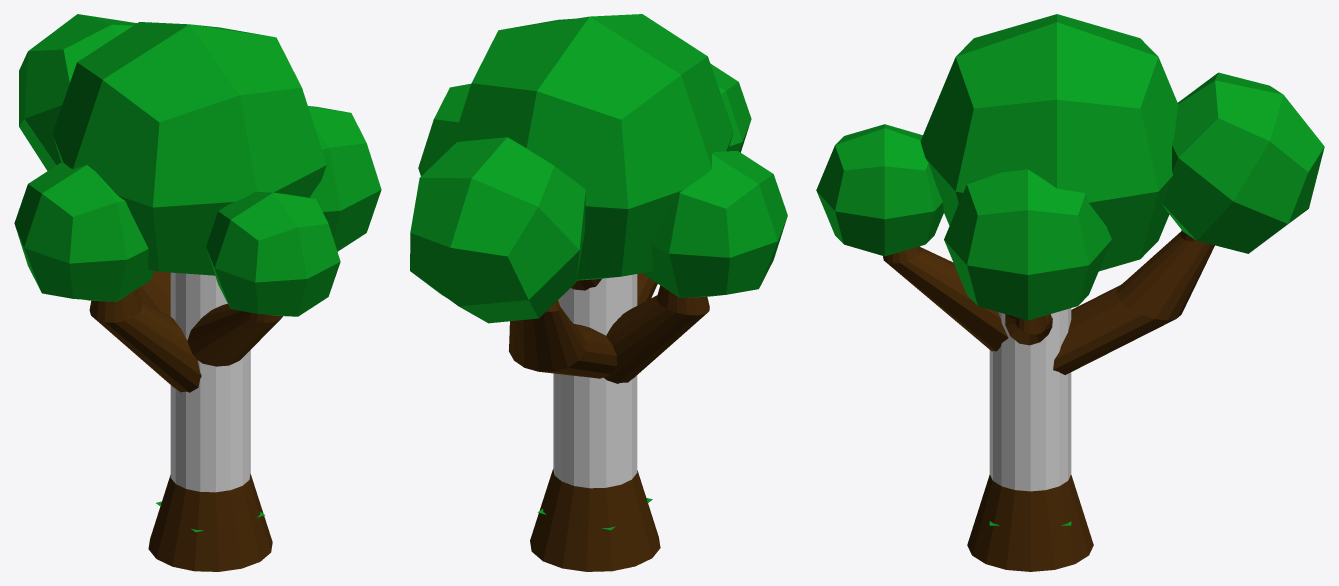
File: Tree.glb
The picture shows the model from 3 angles, left to right: view 1: azimuth 30°, elevation 25°; view 2: azimuth 150°, elevation 25°; view 3: azimuth 270°, elevation 25°; orthographic projection. The views are drawn at different scales.
Parts seen in each view (by area): view 1: Busch, Stamm, -Colonly.001; view 2: Busch, Stamm, -Colonly.001; view 3: Busch, Stamm, -Colonly.001.
Part boxes in pixels (x1,y1,x2,y2): Busch: [14, 14, 381, 316]; Stamm: [89, 271, 283, 571]; -Colonly.001: [170, 272, 250, 492]; Busch: [410, 14, 787, 323]; Stamm: [509, 273, 709, 571]; -Colonly.001: [553, 274, 637, 488]; Busch: [816, 14, 1324, 320]; Stamm: [883, 230, 1214, 571]; -Colonly.001: [989, 308, 1071, 491].
Size of what is drawn, in the model's own units: 9.73 by 14.06 by 12.49.
